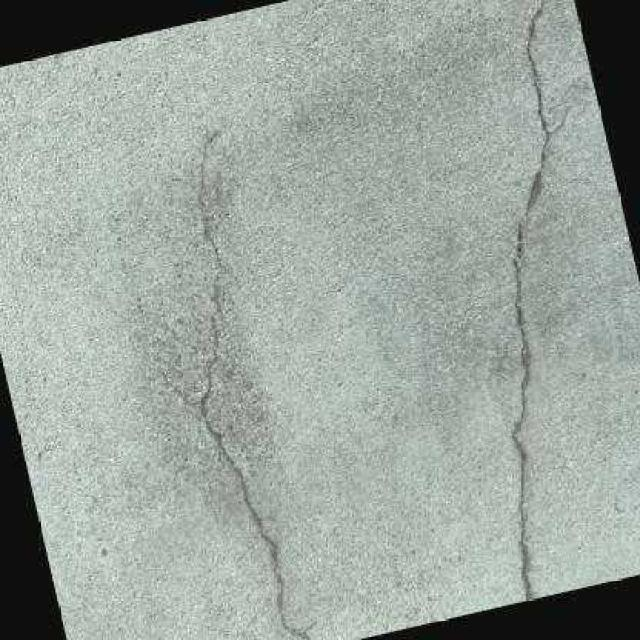D00: (196, 132, 314, 640), (511, 0, 547, 600)
